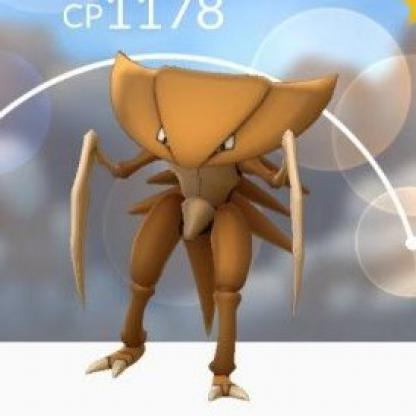Kabutops: (70, 37, 361, 402)
